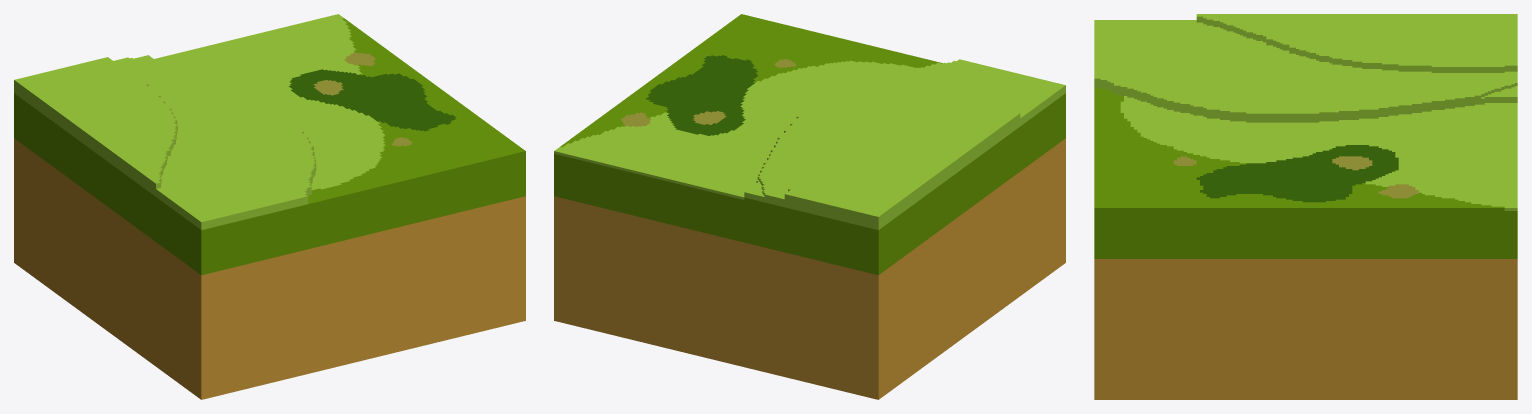
3 renders of one model, left to right at view 1: azimuth 30°, elevation 25°; view 2: azimuth 150°, elevation 25°; view 3: azimuth 270°, elevation 25°, orthographic. The views are drawn at different scales.
Parts seen in each view (by area): view 1: 16K; view 2: 16K; view 3: 16K.
Part boxes in pixels (x1,y1,x2,y2): 16K: [14, 14, 525, 399]; 16K: [554, 14, 1065, 399]; 16K: [1094, 14, 1517, 399].
Bounding box in the file's own units: 12.8 × 6.9 × 12.8.
1 material, 1 textured.
